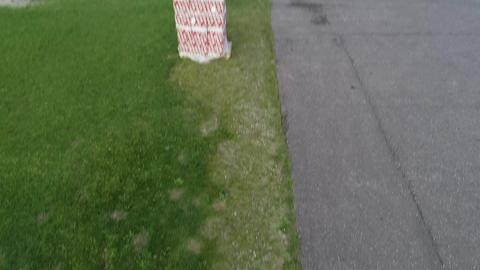RockwoolPallet: (172, 0, 228, 61)
